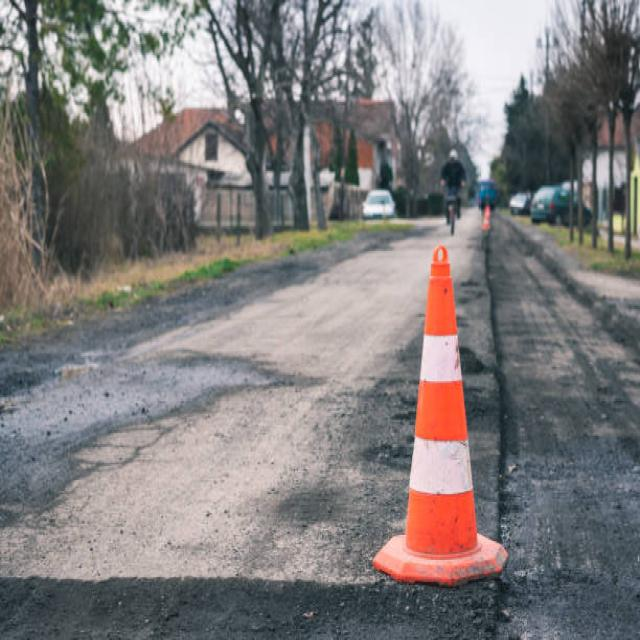Traffic Cone: (362, 186, 526, 605)
